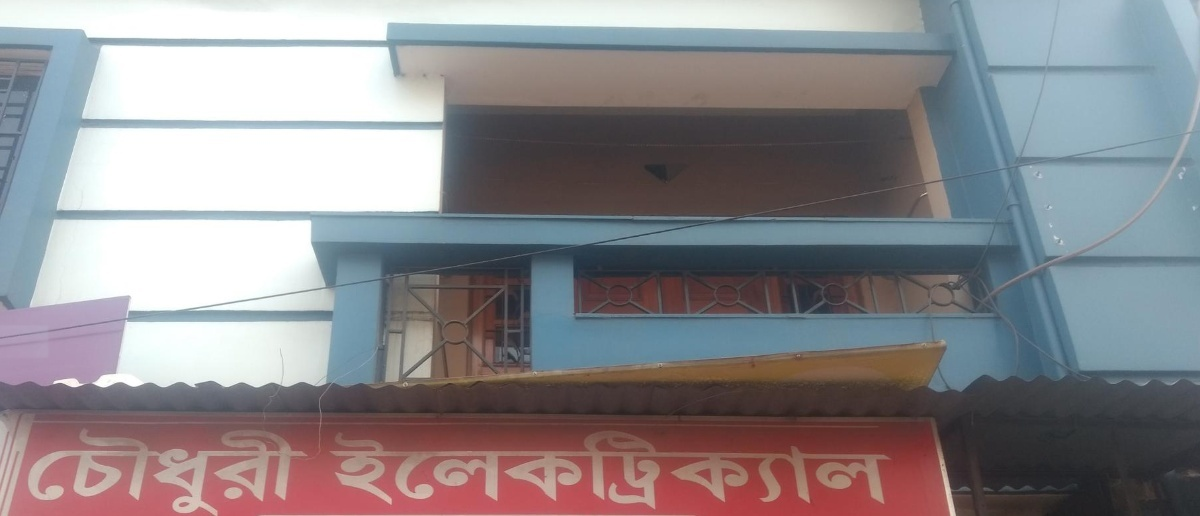text: (49, 416, 64, 515), (65, 416, 80, 515), (81, 416, 96, 515), (97, 416, 112, 515), (113, 416, 128, 515), (129, 416, 144, 515), (145, 416, 160, 515), (161, 416, 176, 515), (177, 416, 192, 515), (193, 416, 208, 515), (209, 416, 224, 515), (225, 416, 240, 515), (241, 416, 256, 515), (257, 416, 272, 515), (273, 416, 288, 515), (289, 416, 304, 515), (337, 425, 352, 516), (353, 425, 368, 516), (369, 425, 384, 516), (385, 425, 400, 516), (401, 425, 416, 516), (417, 425, 432, 516), (433, 425, 448, 516), (449, 425, 464, 516), (465, 425, 480, 516), (481, 425, 496, 516), (497, 425, 512, 516), (513, 425, 528, 516), (529, 425, 544, 516), (545, 425, 560, 516), (561, 425, 576, 516), (577, 425, 592, 516), (593, 425, 608, 516), (609, 425, 624, 516), (625, 425, 640, 516), (641, 425, 656, 516), (657, 425, 672, 516), (673, 425, 688, 516), (689, 425, 704, 516), (705, 425, 720, 516), (721, 425, 736, 516), (737, 425, 752, 516), (753, 425, 768, 516), (769, 425, 784, 516), (785, 425, 800, 516), (801, 425, 816, 516), (817, 425, 832, 516), (833, 425, 848, 516), (849, 425, 864, 516), (865, 425, 880, 516), (881, 425, 896, 516), (37, 416, 48, 515), (305, 416, 313, 515), (897, 425, 902, 516), (332, 425, 336, 516)
